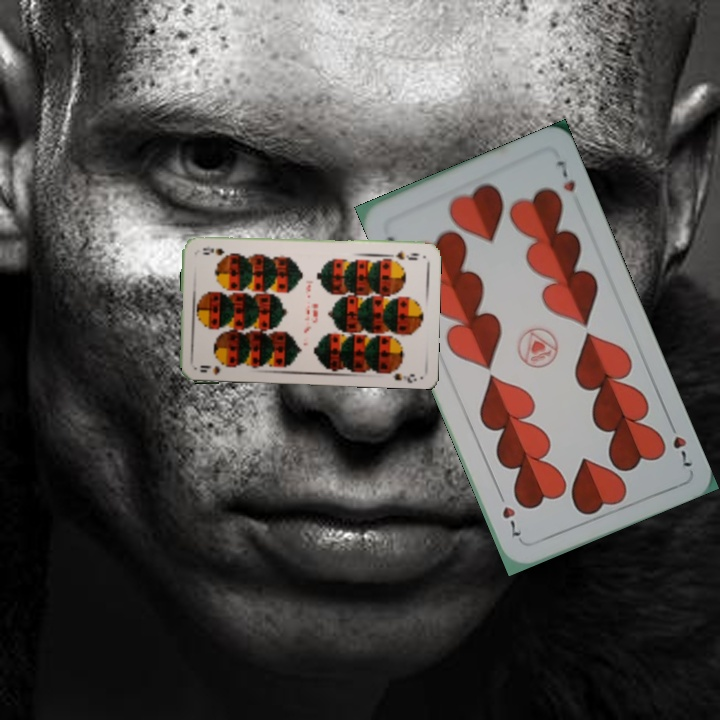H7: (664, 416, 695, 470)
S9: (196, 359, 234, 377), (384, 246, 422, 262)
